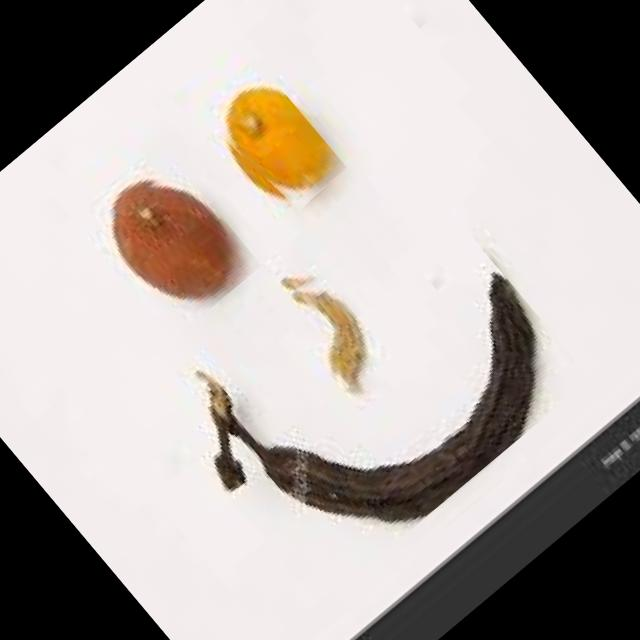Organic: (138, 166, 590, 608), (78, 157, 262, 343), (194, 58, 348, 220), (257, 240, 388, 382)
